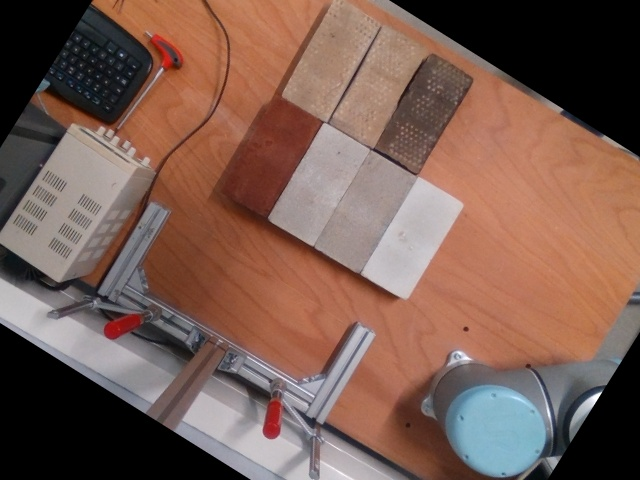brick: (361, 175, 465, 300), (219, 93, 321, 218), (315, 148, 417, 272), (267, 121, 369, 245), (373, 51, 476, 173), (326, 23, 427, 147), (278, 0, 380, 120)
